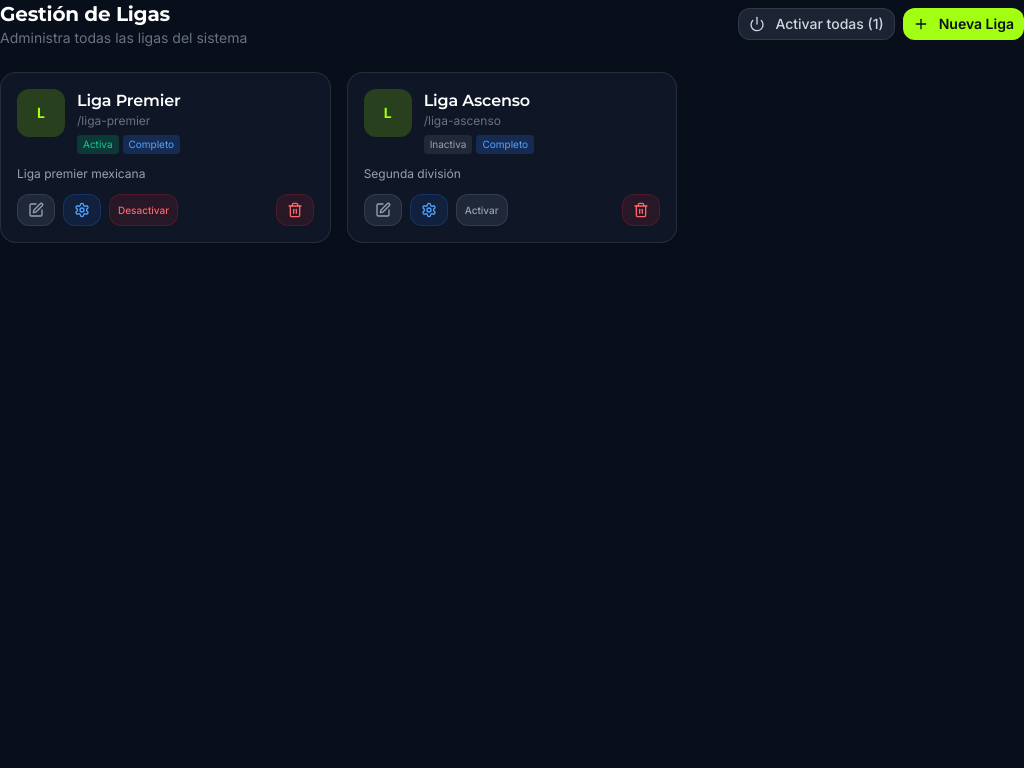
Test: LeagueManagement status › asks for confirmation before deactivating, then sends PATCH /leagues/league1/status
Check: the heading "Liga Premier" is shown, box x1=77 y1=91 x2=181 y2=110
What coordinates should you click on to do the following:
click the button with aria-label "desactivar liga"
I would click on:
 (144, 210)
Its box is x1=109 y1=194 x2=178 y2=226.
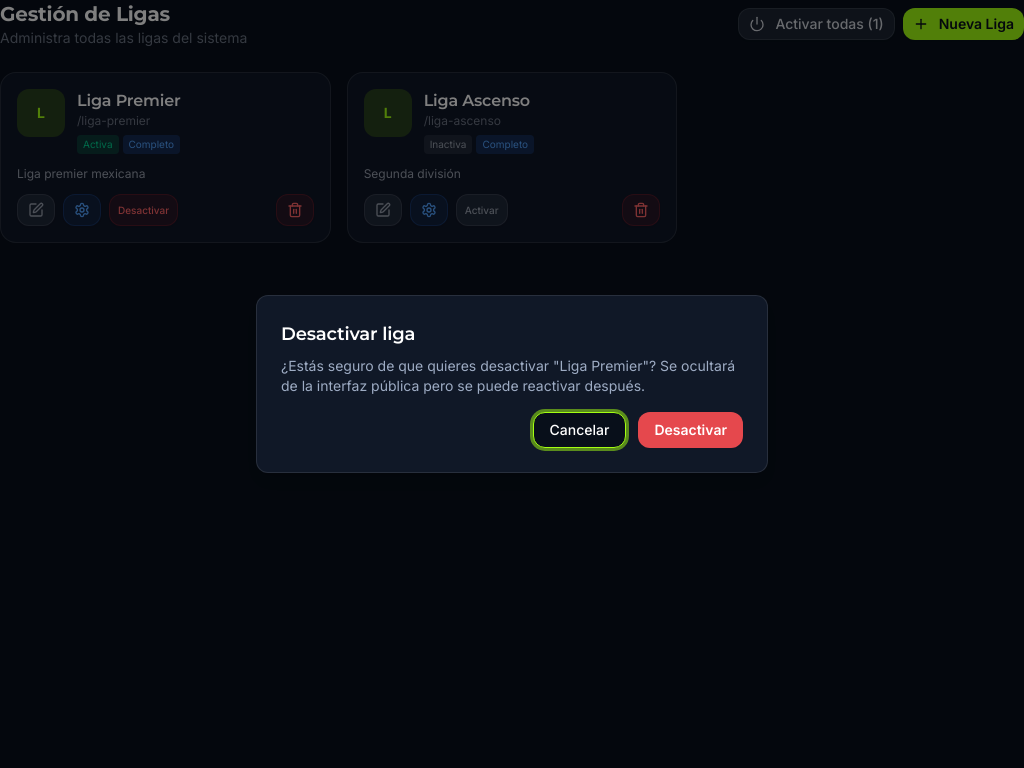
Check: the dialog "Desactivar liga" shows "Liga Premier", box x1=560 y1=357 x2=642 y2=374
What coordinates should you click on to do the following:
click the button "Desactivar"
I would click on:
 (691, 430)
Its box is x1=638 y1=412 x2=743 y2=448.
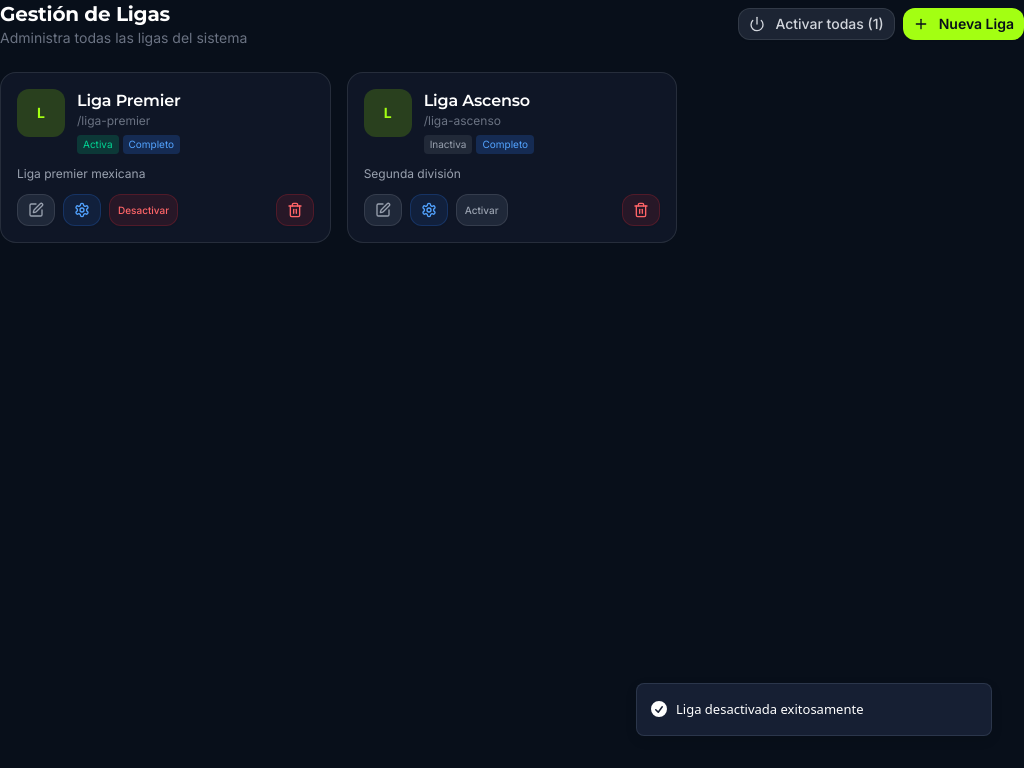
Check: the text "Liga desactivada exitosamente" is shown, box x1=676 y1=700 x2=864 y2=719
